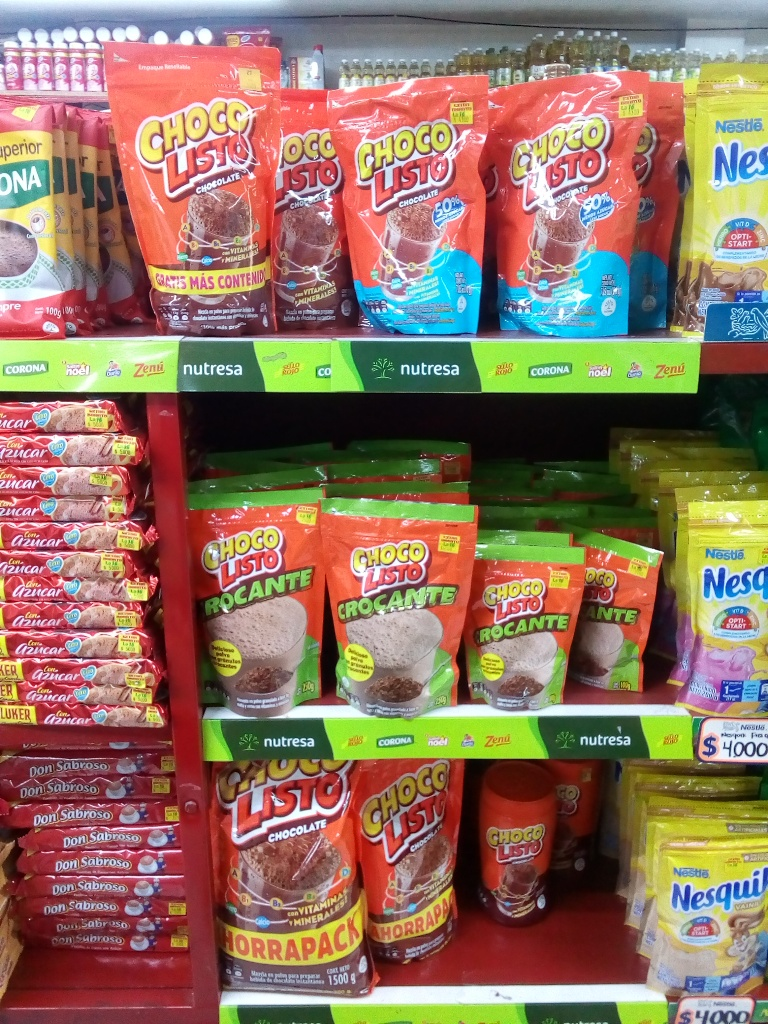COL0170102DYP10000: (578, 530, 662, 696)
COL0170102DYP25000: (314, 498, 473, 715)
COL0170103DYP1,500: (355, 757, 463, 964)
COL0170103DYP20000: (269, 92, 368, 333)
COL0170103DYP36000: (100, 39, 280, 337)
COL0170103TRR30000: (480, 760, 559, 927)
COL0170104DYP20000: (321, 81, 500, 339)
COL0170305DYP20000: (683, 501, 768, 718)
COL0170306DYP20000: (647, 836, 767, 1001)
